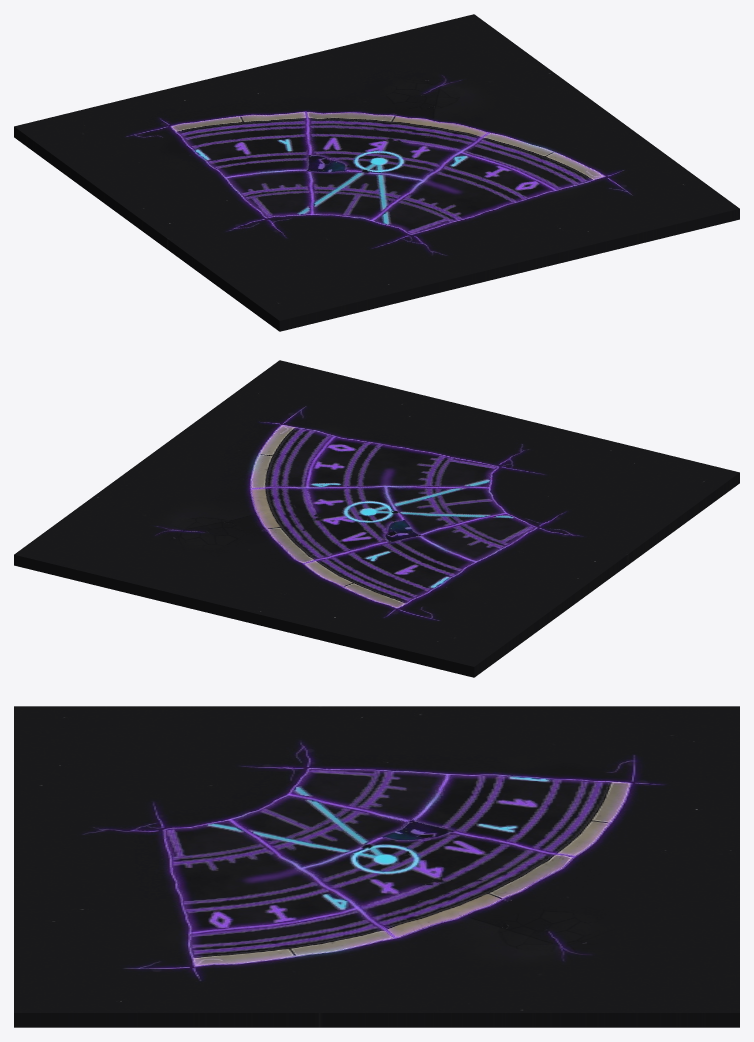
The model's file is abyss_floor_c.glb.
The picture shows the model from 3 angles, top to bottom: view 1: azimuth 30°, elevation 25°; view 2: azimuth 150°, elevation 25°; view 3: azimuth 270°, elevation 25°; orthographic projection. The views are drawn at different scales.
Parts seen in each view (by area): view 1: abyss_floor_c; view 2: abyss_floor_c; view 3: abyss_floor_c.
Boxes of the visible parts, bbox=[...] form: abyss_floor_c: bbox=[14, 14, 739, 331]; abyss_floor_c: bbox=[14, 360, 739, 677]; abyss_floor_c: bbox=[14, 706, 739, 1027].
Size of the model in its own units: 4 by 0.1142 by 4.
1 material, 1 textured.
